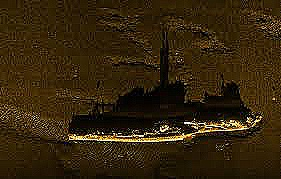ship: (67, 111, 262, 144)
